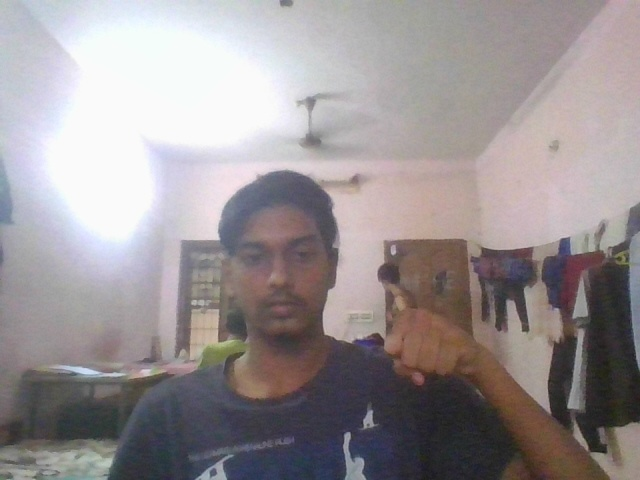yes: (380, 308, 486, 392)
